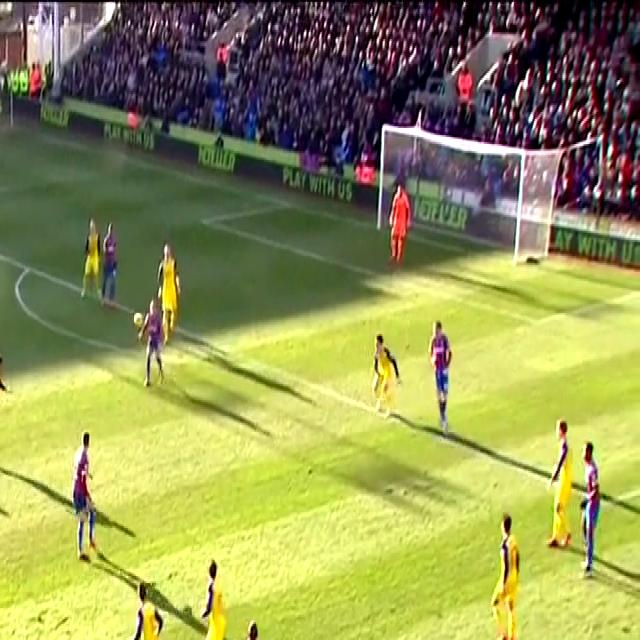ball: (134, 307, 144, 328)
goalkeeper: (386, 178, 419, 268)
soccer-player: (568, 438, 624, 583), (62, 423, 111, 564), (544, 421, 586, 554), (488, 510, 528, 640), (427, 322, 467, 438), (128, 293, 171, 389), (364, 331, 403, 426), (191, 554, 232, 640), (127, 588, 172, 640), (204, 618, 277, 640), (0, 352, 13, 473)
